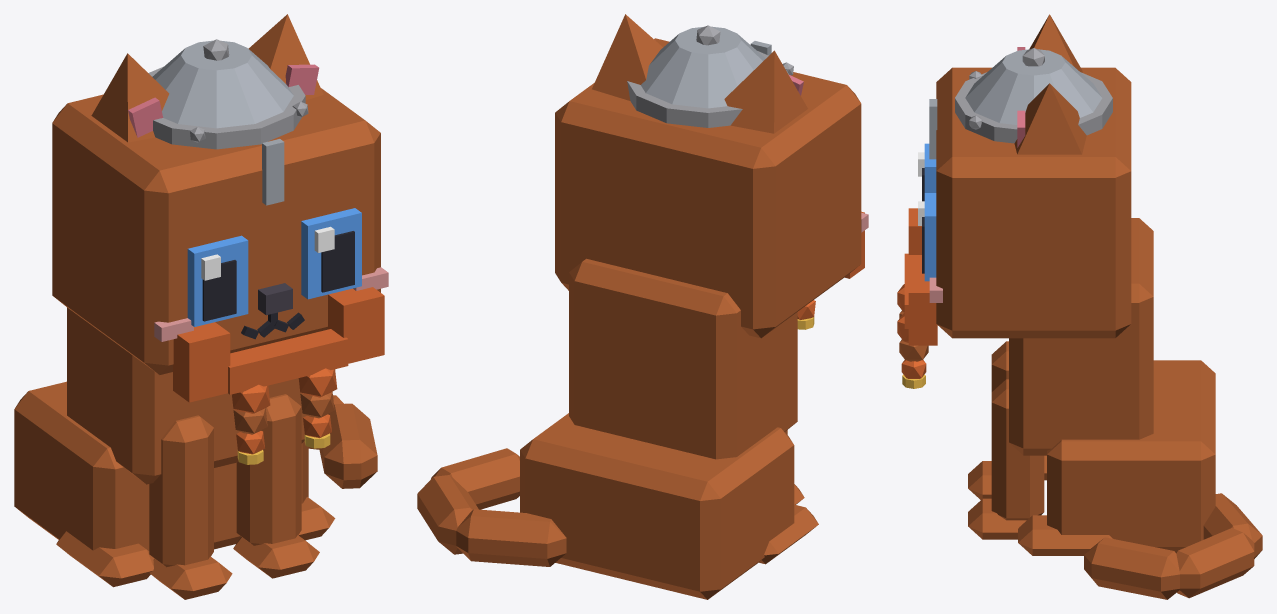
The model's file is CatCafe_Cat_Dwarf_Sit.glb.
3 renders of one model, left to right at view 1: azimuth 30°, elevation 25°; view 2: azimuth 150°, elevation 25°; view 3: azimuth 270°, elevation 25°, orthographic. The views are drawn at different scales.
Parts seen in each view (by area): view 1: CatCafe_Cat_Dwarf_Sit_Head, CatCafe_Cat_Dwarf_Sit_Body, CatCafe_Cat_Dwarf_Sit_Prop, CatCafe_Cat_Dwarf_Sit_LegF2, CatCafe_Cat_Dwarf_Sit_LegF1, CatCafe_Cat_Dwarf_Sit_Eye2, CatCafe_Cat_Dwarf_Sit_Eye1, CatCafe_Cat_Dwarf_Sit_EarR, CatCafe_Cat_Dwarf_Sit_Tail, CatCafe_Cat_Dwarf_Sit_EarL; view 2: CatCafe_Cat_Dwarf_Sit_Body, CatCafe_Cat_Dwarf_Sit_Head, CatCafe_Cat_Dwarf_Sit_Tail, CatCafe_Cat_Dwarf_Sit_Prop, CatCafe_Cat_Dwarf_Sit_EarR, CatCafe_Cat_Dwarf_Sit_EarL; view 3: CatCafe_Cat_Dwarf_Sit_Head, CatCafe_Cat_Dwarf_Sit_Body, CatCafe_Cat_Dwarf_Sit_Prop, CatCafe_Cat_Dwarf_Sit_Tail, CatCafe_Cat_Dwarf_Sit_LegF1, CatCafe_Cat_Dwarf_Sit_EarL, CatCafe_Cat_Dwarf_Sit_LegF2, CatCafe_Cat_Dwarf_Sit_Eye1, CatCafe_Cat_Dwarf_Sit_EarR, CatCafe_Cat_Dwarf_Sit_Eye2.
Part boxes in pixels (x1=…): CatCafe_Cat_Dwarf_Sit_Head: x1=52, y1=88, x2=388, y2=374; CatCafe_Cat_Dwarf_Sit_Body: x1=14, y1=307, x2=335, y2=587; CatCafe_Cat_Dwarf_Sit_Prop: x1=148, y1=39, x2=384, y2=464; CatCafe_Cat_Dwarf_Sit_LegF2: x1=149, y1=415, x2=232, y2=599; CatCafe_Cat_Dwarf_Sit_LegF1: x1=233, y1=394, x2=319, y2=578; CatCafe_Cat_Dwarf_Sit_Eye2: x1=187, y1=235, x2=248, y2=326; CatCafe_Cat_Dwarf_Sit_Eye1: x1=301, y1=208, x2=361, y2=299; CatCafe_Cat_Dwarf_Sit_EarR: x1=91, y1=53, x2=169, y2=142; CatCafe_Cat_Dwarf_Sit_Tail: x1=308, y1=395, x2=377, y2=488; CatCafe_Cat_Dwarf_Sit_EarL: x1=248, y1=14, x2=323, y2=99; CatCafe_Cat_Dwarf_Sit_Body: x1=520, y1=258, x2=818, y2=599; CatCafe_Cat_Dwarf_Sit_Head: x1=555, y1=38, x2=868, y2=338; CatCafe_Cat_Dwarf_Sit_Tail: x1=417, y1=448, x2=566, y2=566; CatCafe_Cat_Dwarf_Sit_Prop: x1=627, y1=25, x2=864, y2=329; CatCafe_Cat_Dwarf_Sit_EarR: x1=724, y1=50, x2=807, y2=133; CatCafe_Cat_Dwarf_Sit_EarL: x1=592, y1=14, x2=662, y2=100; CatCafe_Cat_Dwarf_Sit_Head: x1=929, y1=67, x2=1131, y2=338; CatCafe_Cat_Dwarf_Sit_Body: x1=1009, y1=218, x2=1215, y2=555; CatCafe_Cat_Dwarf_Sit_Prop: x1=897, y1=48, x2=1112, y2=388; CatCafe_Cat_Dwarf_Sit_Tail: x1=1084, y1=493, x2=1262, y2=599; CatCafe_Cat_Dwarf_Sit_LegF1: x1=968, y1=379, x2=1044, y2=539; CatCafe_Cat_Dwarf_Sit_EarL: x1=1014, y1=83, x2=1086, y2=154; CatCafe_Cat_Dwarf_Sit_LegF2: x1=968, y1=341, x2=1008, y2=499; CatCafe_Cat_Dwarf_Sit_Eye1: x1=918, y1=193, x2=936, y2=281; CatCafe_Cat_Dwarf_Sit_EarR: x1=1017, y1=14, x2=1082, y2=72; CatCafe_Cat_Dwarf_Sit_Eye2: x1=918, y1=143, x2=936, y2=201.
Size of the model in its own units: 1.27 by 1.85 by 1.32.
1 material, 1 textured.
